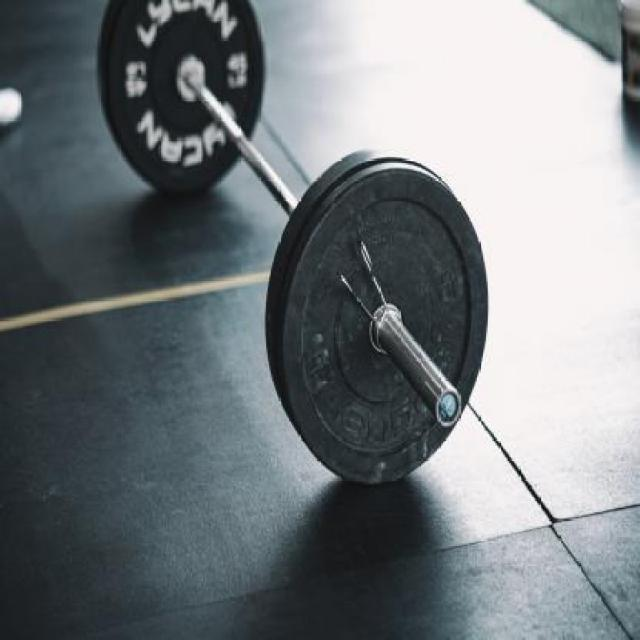Barbell: (433, 380, 470, 428)
